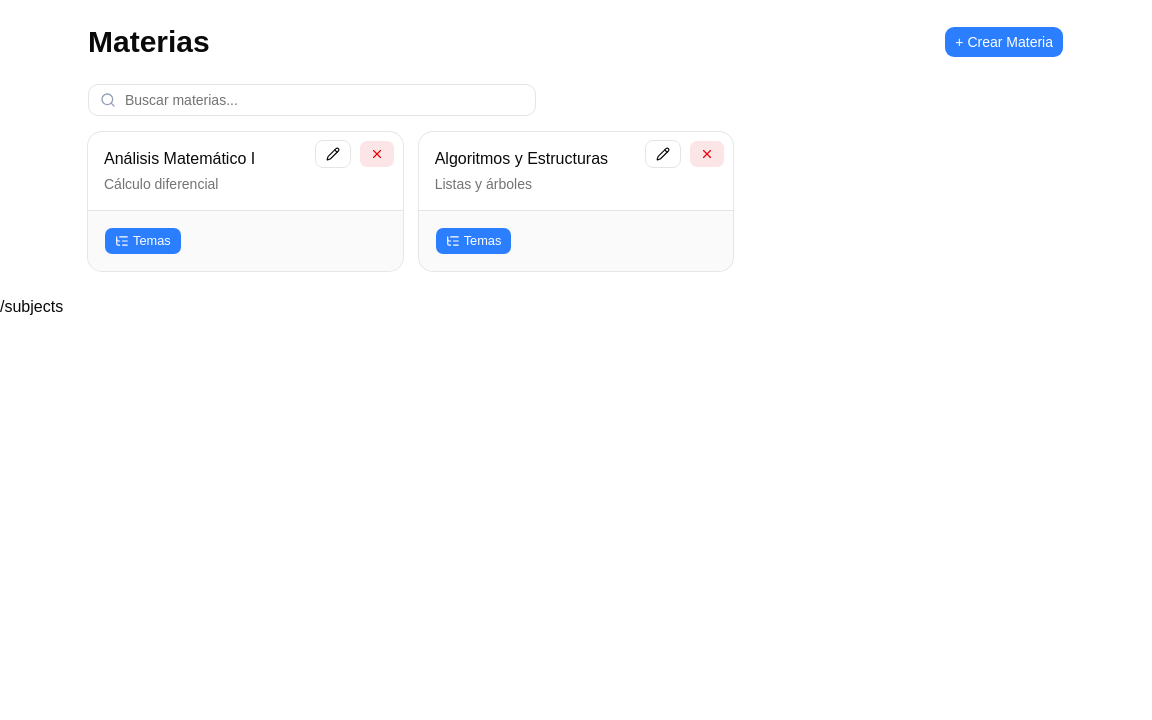
Scenario: Subjects Page › permite abrir el modal y crear una nueva materia
Later steps or results of the test are not shown.
Click the button "+ Crear Materia". click: (1004, 42)
box: [944, 26, 1064, 58]
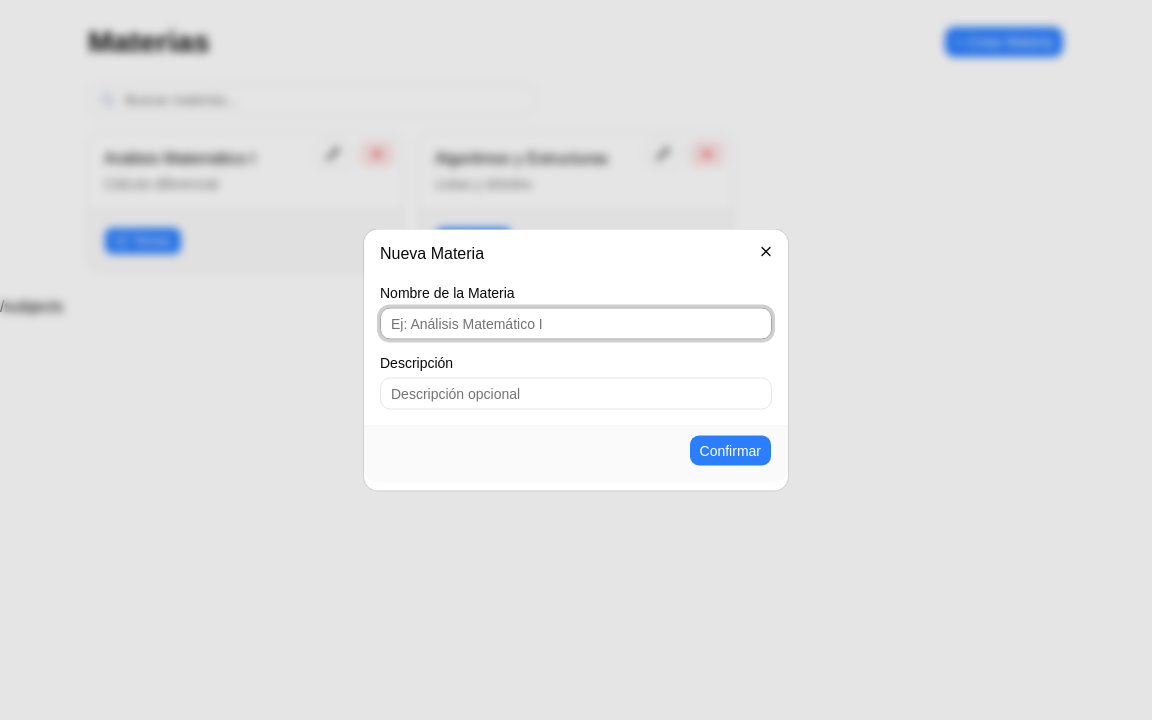
Expected: the heading "Nueva Materia" is shown, [380, 244, 484, 262]
